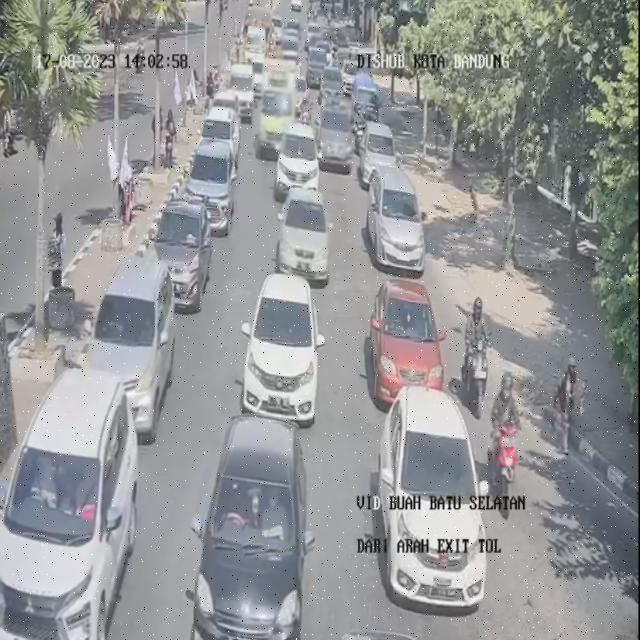cars: (0, 372, 140, 640), (195, 414, 314, 638), (381, 382, 483, 610), (83, 253, 171, 436), (240, 273, 322, 428), (368, 276, 438, 411), (365, 163, 421, 272), (280, 184, 336, 283), (159, 194, 210, 302), (188, 141, 234, 234), (275, 120, 316, 196), (322, 97, 354, 171), (362, 118, 392, 190), (204, 106, 238, 162), (232, 62, 258, 114), (224, 68, 249, 119), (313, 41, 334, 90), (214, 88, 240, 121), (278, 29, 299, 63), (309, 21, 323, 45), (288, 14, 303, 36)
motorcycle: (488, 372, 518, 492), (464, 292, 494, 412), (298, 90, 308, 122)
truck: (258, 65, 298, 158), (289, 0, 306, 9)
